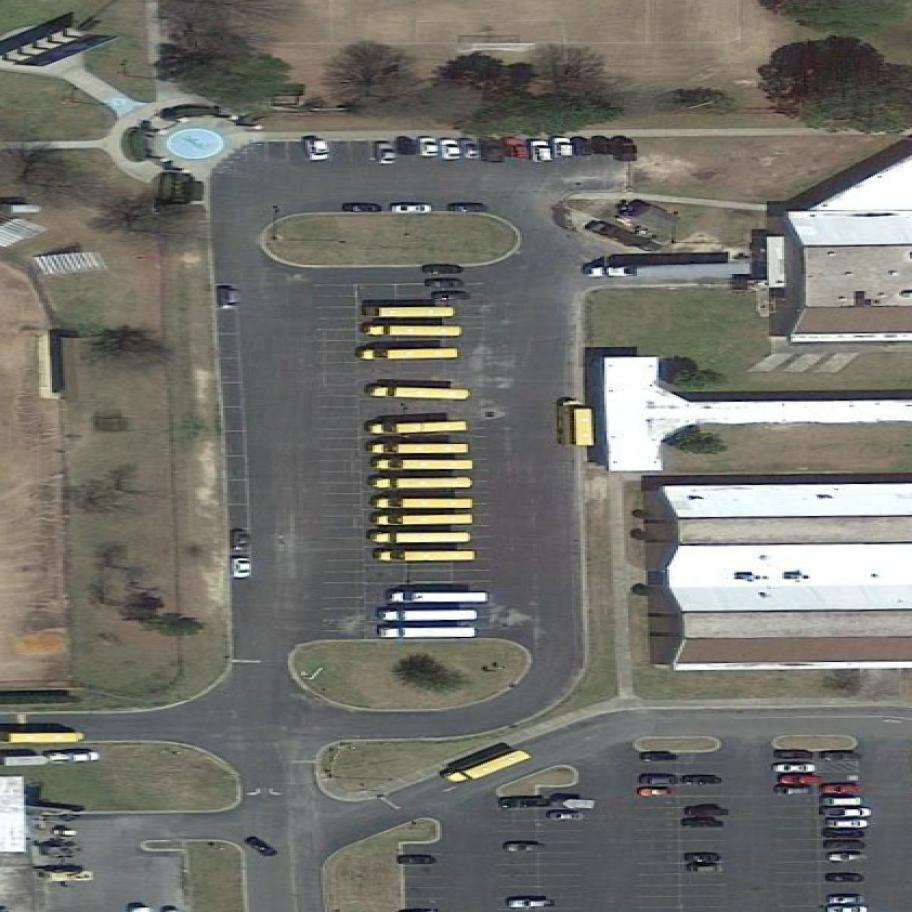large-vehicle: (444, 746, 533, 789), (587, 262, 754, 279), (559, 399, 596, 448), (366, 385, 470, 401), (368, 420, 468, 436), (4, 751, 102, 767), (359, 347, 461, 361), (375, 550, 477, 563), (372, 477, 477, 489), (373, 498, 477, 510), (390, 592, 490, 604), (379, 627, 477, 639), (364, 325, 461, 337), (366, 307, 455, 320), (372, 443, 472, 454), (381, 610, 481, 621), (375, 514, 475, 525), (372, 532, 472, 543), (375, 460, 474, 470), (2, 732, 84, 744)
small-vehicle: (240, 828, 284, 865), (305, 132, 331, 164), (611, 138, 641, 163), (507, 897, 559, 911), (459, 136, 483, 165), (221, 285, 245, 311), (500, 797, 552, 809), (481, 140, 507, 163), (503, 139, 529, 162), (773, 762, 819, 775), (823, 818, 871, 830), (504, 841, 548, 854), (388, 204, 435, 216), (782, 774, 828, 786), (232, 527, 253, 553), (823, 751, 865, 764), (684, 817, 726, 830), (546, 810, 591, 822), (529, 140, 552, 163), (825, 893, 869, 905), (232, 557, 256, 579), (635, 785, 672, 799), (685, 775, 724, 788), (377, 143, 399, 166), (440, 139, 461, 163), (342, 203, 384, 215), (448, 203, 490, 215), (687, 805, 732, 816), (819, 808, 873, 817), (420, 264, 464, 275), (552, 138, 574, 160), (825, 829, 869, 840), (825, 852, 869, 863), (643, 751, 680, 764), (572, 138, 596, 158), (400, 854, 440, 866), (591, 137, 613, 158), (641, 774, 682, 785), (776, 750, 817, 761), (420, 137, 440, 159), (823, 840, 867, 850), (433, 291, 472, 302), (821, 783, 860, 794), (825, 873, 867, 883), (778, 786, 815, 797), (425, 279, 464, 289), (823, 797, 862, 807), (399, 138, 420, 156), (687, 853, 726, 862), (687, 864, 726, 873)
